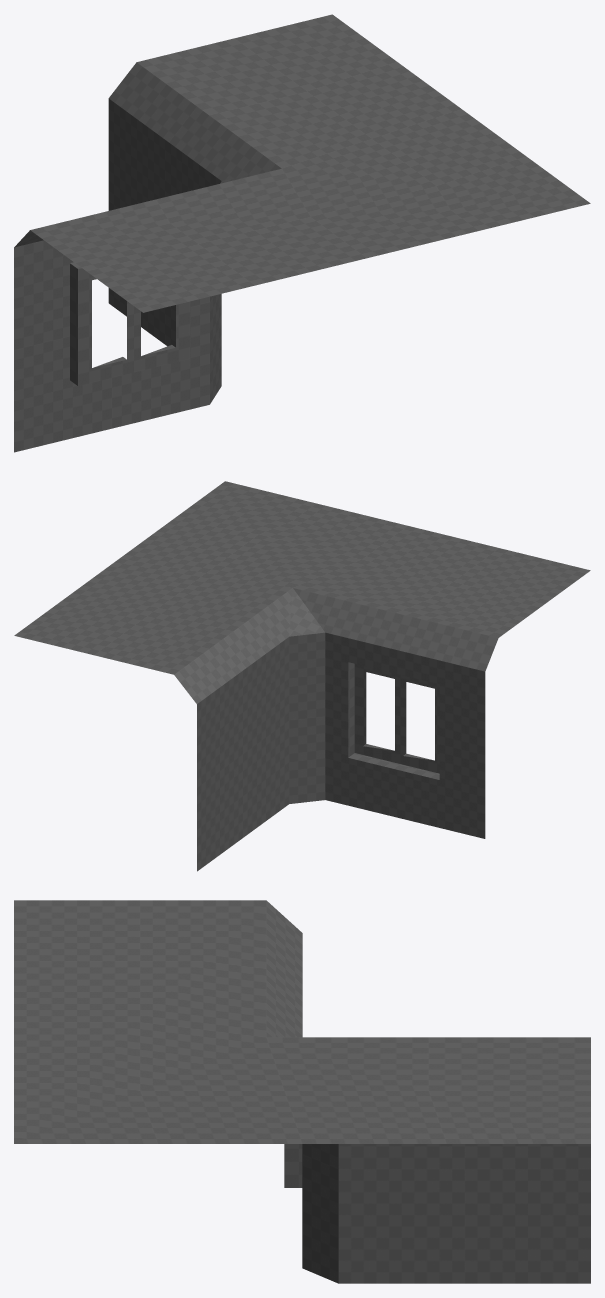
3 renders of one model, top to bottom at view 1: azimuth 30°, elevation 25°; view 2: azimuth 150°, elevation 25°; view 3: azimuth 270°, elevation 25°, orthographic. The views are drawn at different scales.
Parts seen in each view (by area): view 1: CubeDownBackRight3V1; view 2: CubeDownBackRight3V1; view 3: CubeDownBackRight3V1.
Boxes of the visible parts, box(x1,y1,x2,y2) form: CubeDownBackRight3V1: box(14, 14, 590, 452); CubeDownBackRight3V1: box(14, 481, 590, 871); CubeDownBackRight3V1: box(14, 900, 590, 1283).
Size of the model in its own units: 4 by 2 by 4.
1 material, 1 textured.
